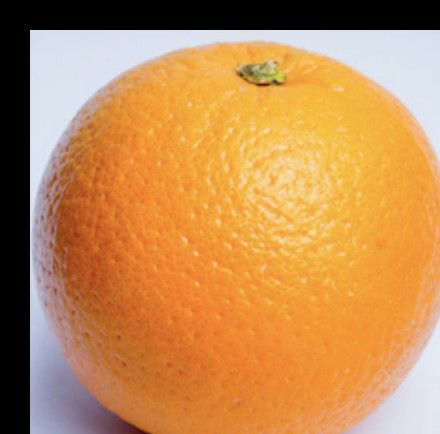fresh_orange: (37, 41, 440, 434)
